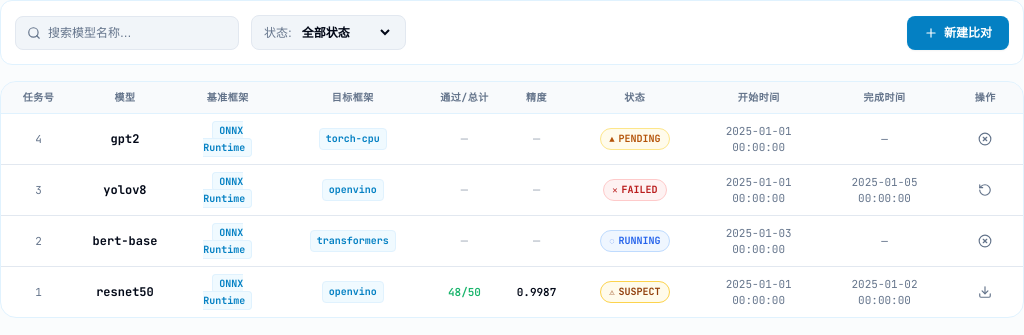
Scenario: TaskTable › search › uses local state for search when no controlled props given
Expected: the text "resnet50" is shown, [96,284,154,300]
Expected: the text "gpt2" is shown, [111,131,139,147]
# Type in search box
Type "yolo" into the field with placeholder "搜索模型名称...".
click(127, 32); type("yolo")  # box [15,16,239,50]
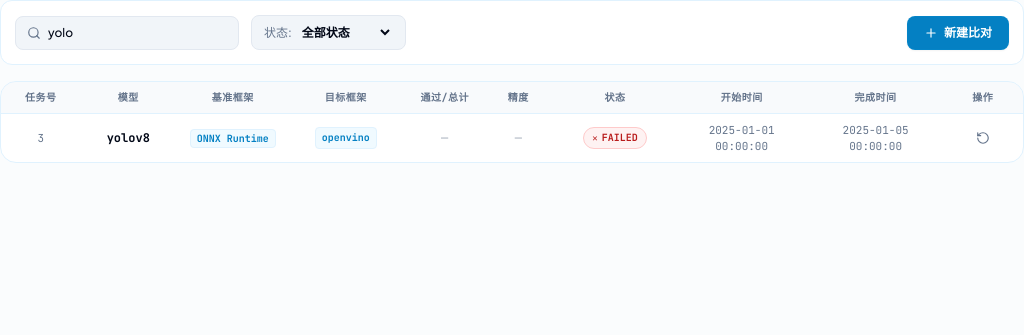
Now the text "resnet50" is gone
Now the text "bert-base" is gone
Now the text "gpt2" is gone
